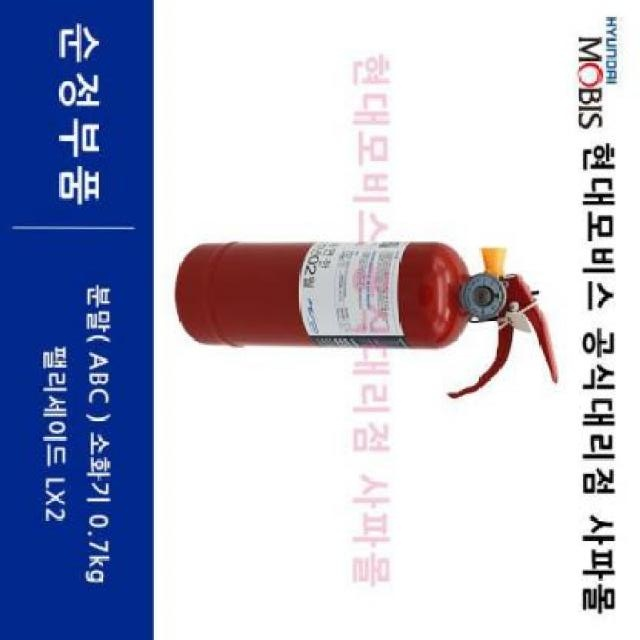fire extinguisher: (173, 240, 559, 400)
